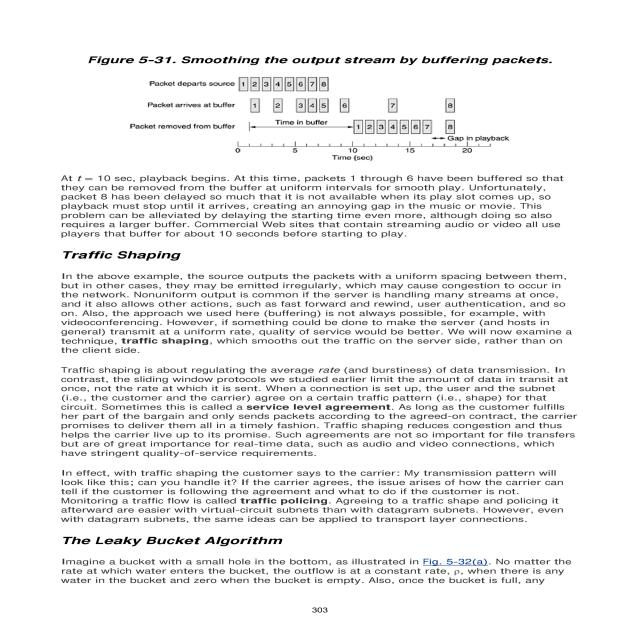diagram: (48, 46, 619, 168)
